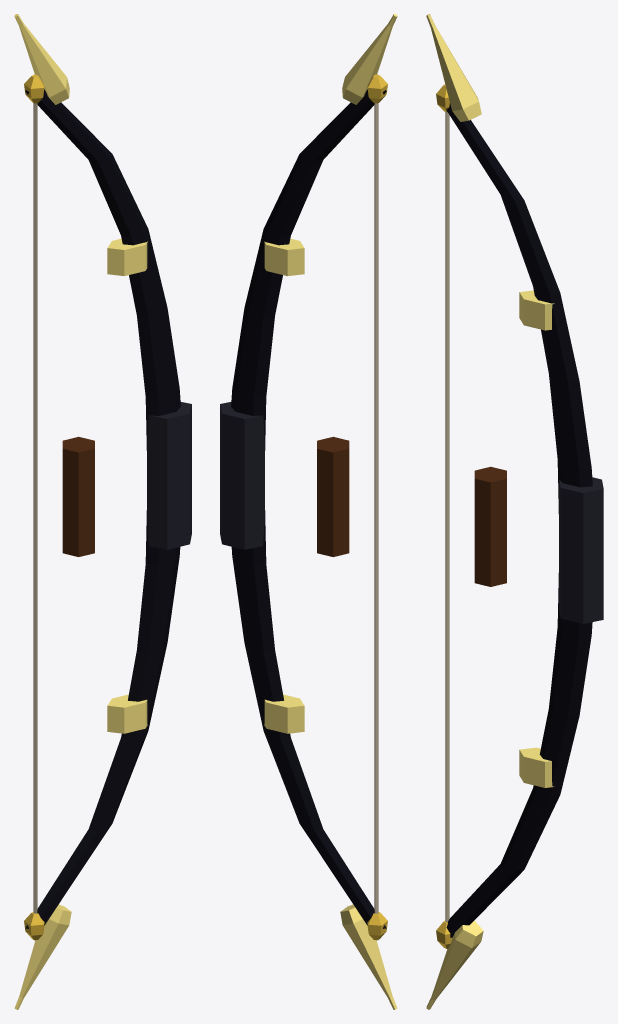
File: wpn_bow_10.glb
The picture shows the model from 3 angles, left to right: view 1: azimuth 30°, elevation 25°; view 2: azimuth 150°, elevation 25°; view 3: azimuth 330°, elevation 25°; orthographic projection.
Visible parts, largest first — view 1: wpn_bow_10; view 2: wpn_bow_10; view 3: wpn_bow_10.
Part boxes in pixels (x1,y1,x2,y2): wpn_bow_10: [14, 14, 191, 1009]; wpn_bow_10: [220, 14, 397, 1009]; wpn_bow_10: [426, 14, 603, 1009].
Size of the model in its own units: 0.2839 by 1.52 by 0.052.
